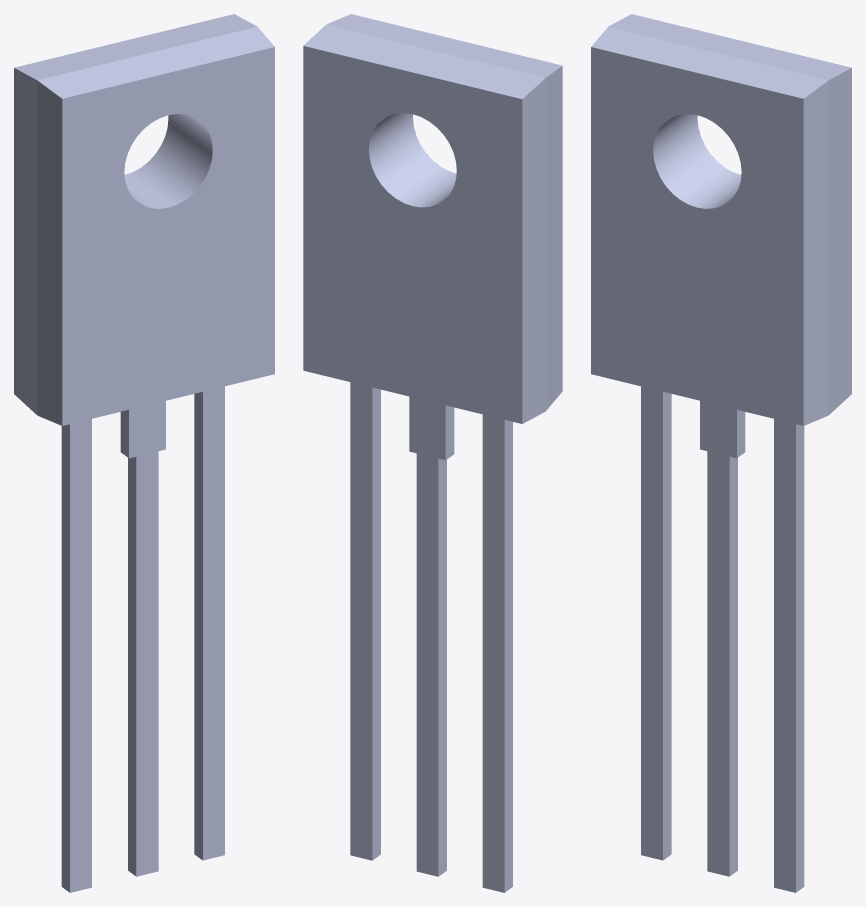
File: transistor D882.glb
3 views of the same model, side by side, from view 1: azimuth 30°, elevation 25°; view 2: azimuth 150°, elevation 25°; view 3: azimuth 330°, elevation 25° (orthographic).
Parts seen in each view (by area): view 1: mesh-0; view 2: mesh-0; view 3: mesh-0.
Boxes of the visible parts, x1,y1,x2,y2 form: mesh-0: (14,14,274,892); mesh-0: (303,14,562,892); mesh-0: (591,14,851,892).
Size of the model in its own units: 7.6 by 27.05 by 2.65.
